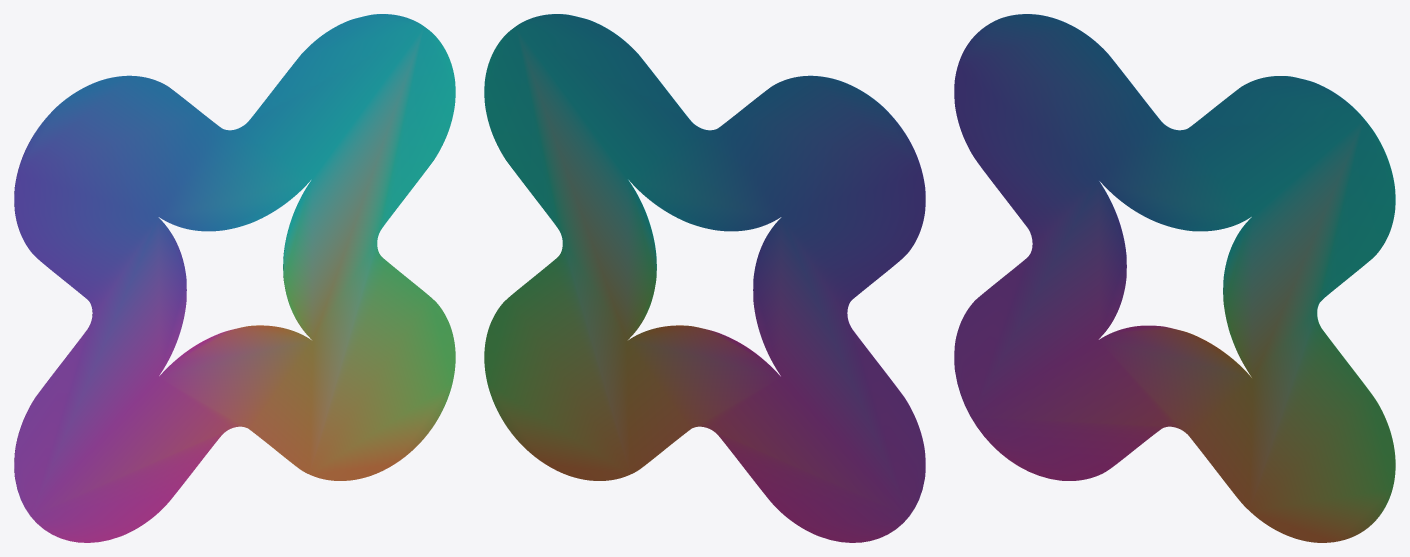
File: token-01-pinwheel.glb
3 views of the same model, side by side, from view 1: azimuth 30°, elevation 25°; view 2: azimuth 150°, elevation 25°; view 3: azimuth 330°, elevation 25° (orthographic).
Visible parts, largest first — view 1: pinwheel; view 2: pinwheel; view 3: pinwheel.
Part boxes in pixels (left/top/right/bottom): pinwheel: left=14, top=14, right=455, bottom=542; pinwheel: left=484, top=14, right=925, bottom=542; pinwheel: left=954, top=14, right=1395, bottom=542.
Size of the model in its own units: 2 by 2 by 0.00106.
